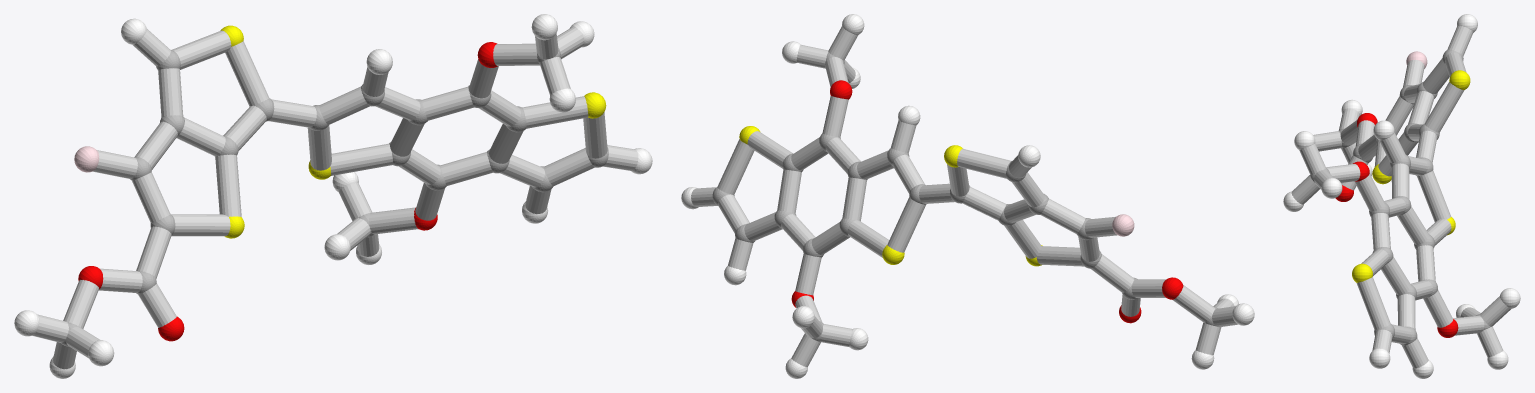
Rendered from color.glb.
The picture shows the model from 3 angles, left to right: view 1: azimuth 30°, elevation 25°; view 2: azimuth 150°, elevation 25°; view 3: azimuth 270°, elevation 25°; orthographic projection. The views are drawn at different scales.
Parts seen in each view (by area): view 1: grp15205, grp8689, grp1, grp13395, grp7241, grp14843; view 2: grp15205, grp8689, grp1, grp13395, grp7241; view 3: grp15205, grp8689, grp1, grp7241, grp13395.
Boxes of the visible parts, left/top/right/bottom form: grp15205: left=32, top=27, right=638, bottom=369; grp8689: left=14, top=14, right=652, bottom=378; grp1: left=61, top=48, right=608, bottom=346; grp13395: left=78, top=42, right=497, bottom=341; grp7241: left=220, top=25, right=606, bottom=238; grp14843: left=74, top=146, right=99, bottom=172; grp15205: left=691, top=26, right=1237, bottom=366; grp8689: left=681, top=14, right=1254, bottom=378; grp1: left=712, top=52, right=1218, bottom=341; grp13395: left=791, top=80, right=1183, bottom=323; grp7241: left=739, top=126, right=1042, bottom=266; grp15205: left=1291, top=25, right=1511, bottom=368; grp8689: left=1283, top=14, right=1520, bottom=378; grp1: left=1310, top=49, right=1490, bottom=345; grp7241: left=1352, top=70, right=1470, bottom=282; grp13395: left=1335, top=113, right=1458, bottom=337.
Size of the model in its own units: 17.11 by 8.13 by 6.76.
